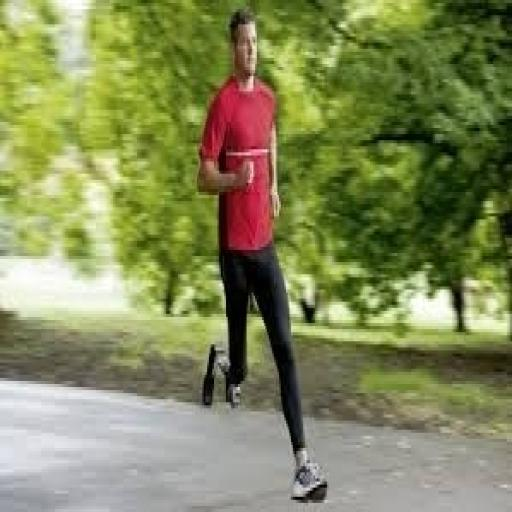running: (194, 6, 330, 506)
